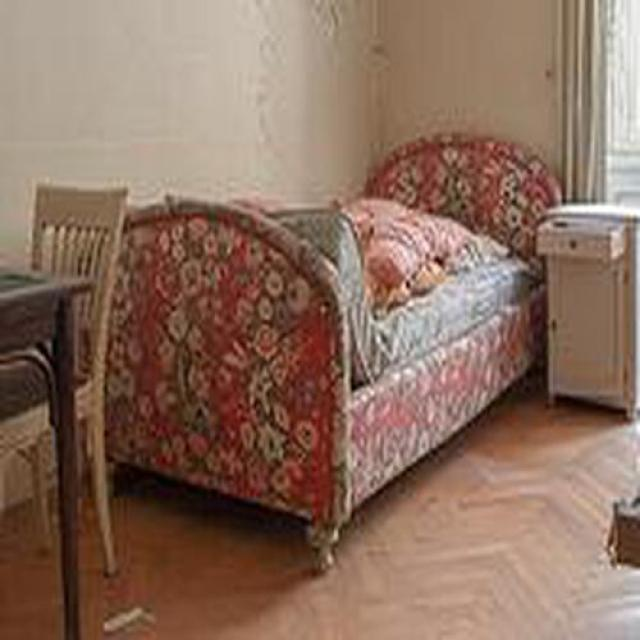bed: (101, 138, 561, 572)
